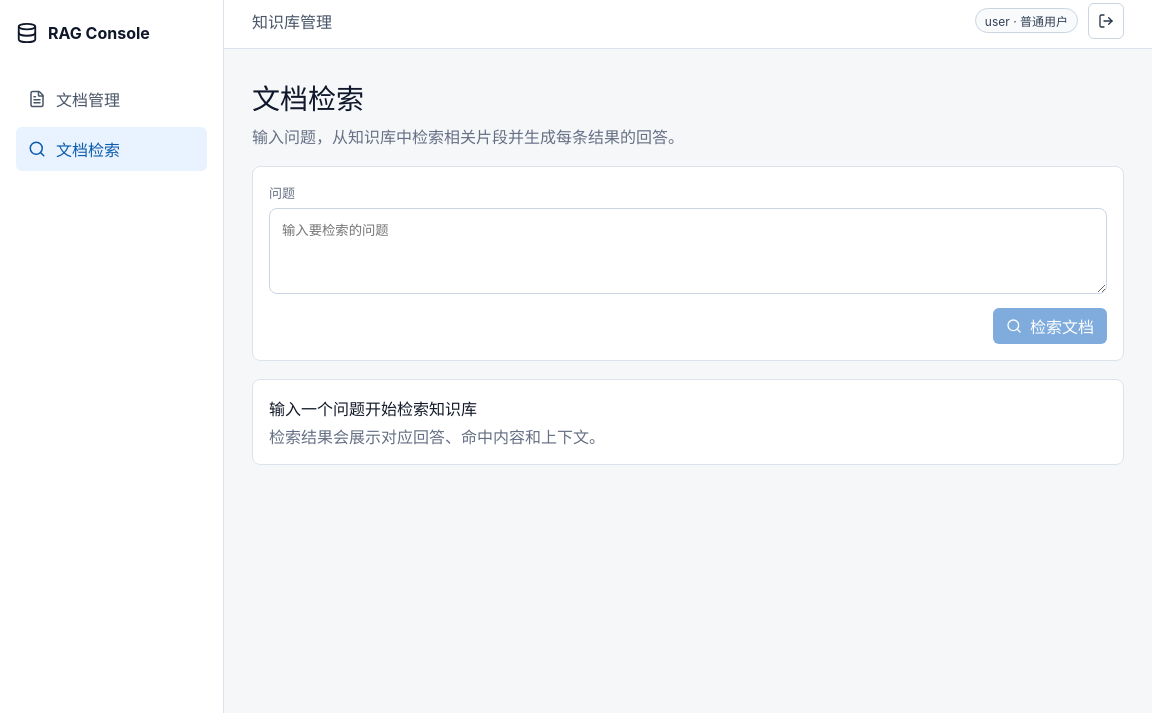
document management app › lets a normal user search documents and submit query feedback
Check: the heading "文档检索" is shown, box [252,82,364,116]
Check: the link "文档管理" is shown, box [28,90,120,110]
Type "差旅报销需要什么材料" into the text box labelled "问题" at (688, 251), box [269,208,1107,294]
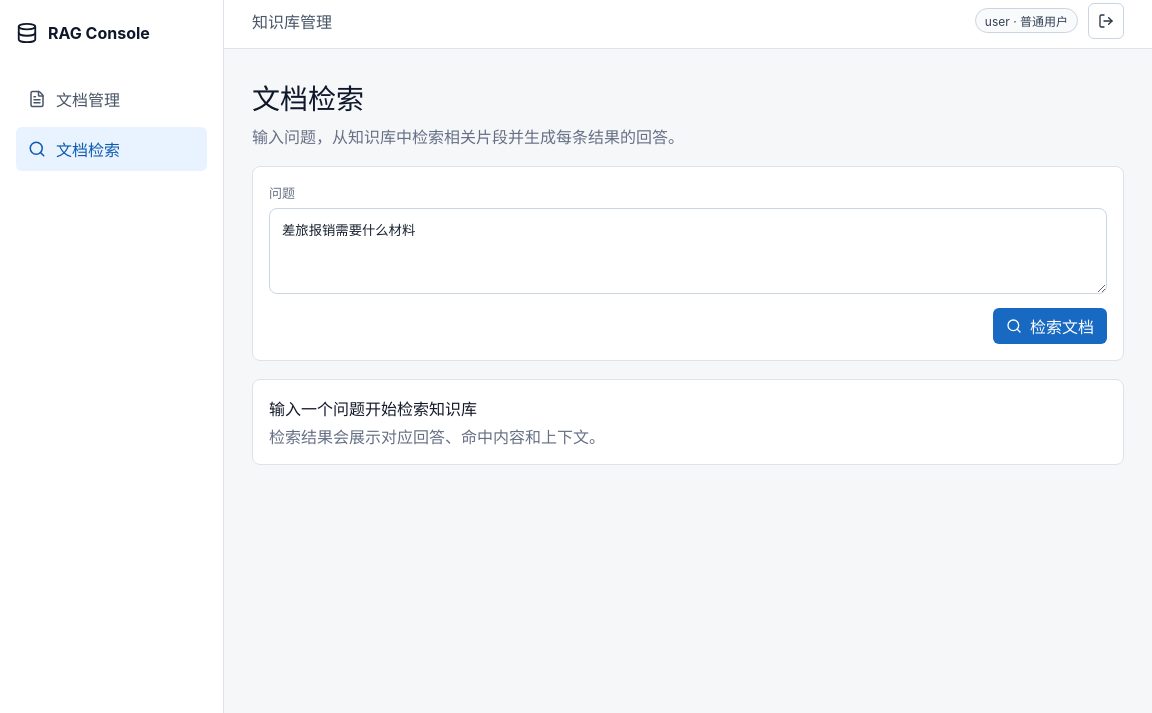
Click the button "检索文档" at (1050, 326), box [993,308,1107,344]
(page scrolled)
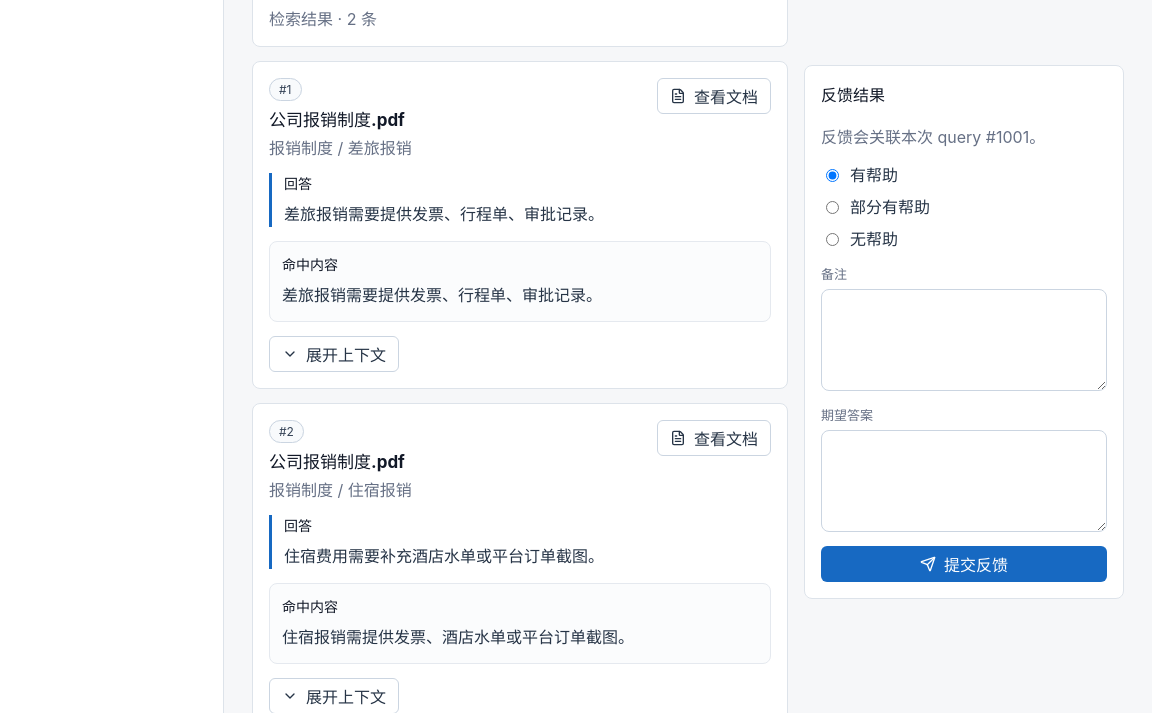
Check: the 1st heading "公司报销制度.pdf" is shown, box [269,106,412,131]
Check: the 1st text "差旅报销需要提供发票、行程单、审批记录。" is shown, box [284,204,604,224]
Check: the text "住宿费用需要补充酒店水单或平台订单截图。" is shown, box [284,546,604,566]
Click the button "展开上下文" below "报销制度 / 差旅报销" at (334, 354), box [269,336,399,372]
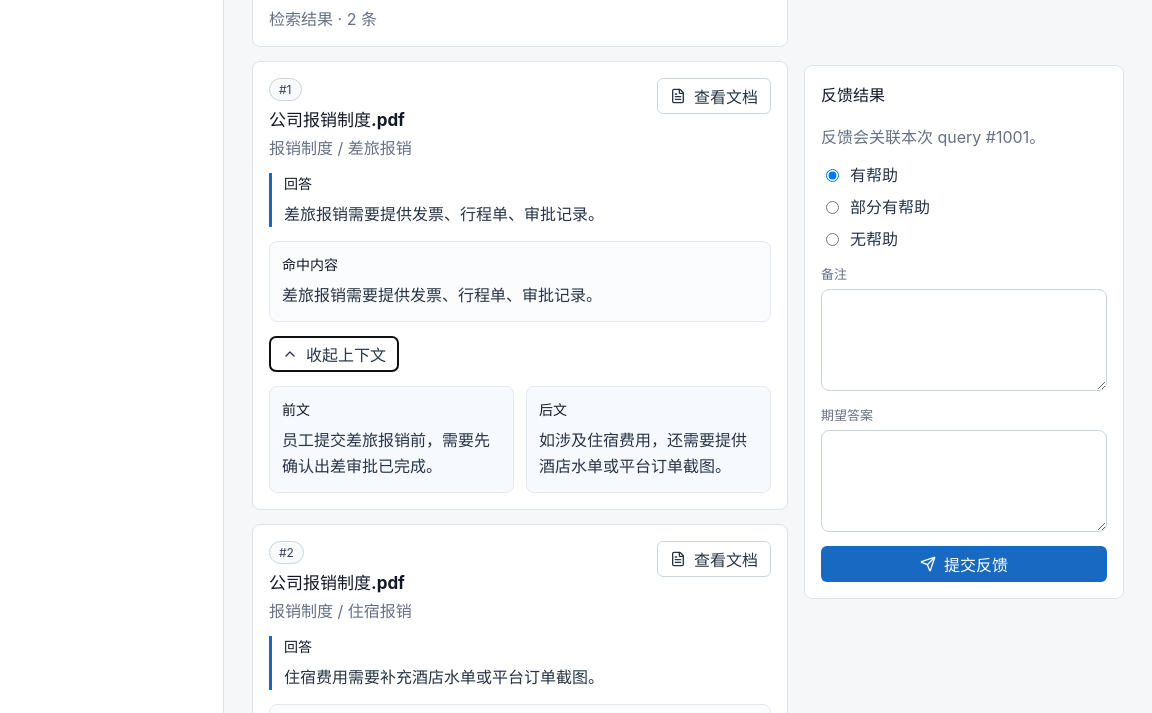
Check: the text "员工提交差旅报销前，需要先确认出差审批已完成。" is shown, box [282,427,501,480]
Check: the text "如涉及住宿费用，还需要提供酒店水单或平台订单截图。" is shown, box [539,427,758,480]
Click the radio button labelled "部分有帮助" at (832, 208), box [826,201,839,214]
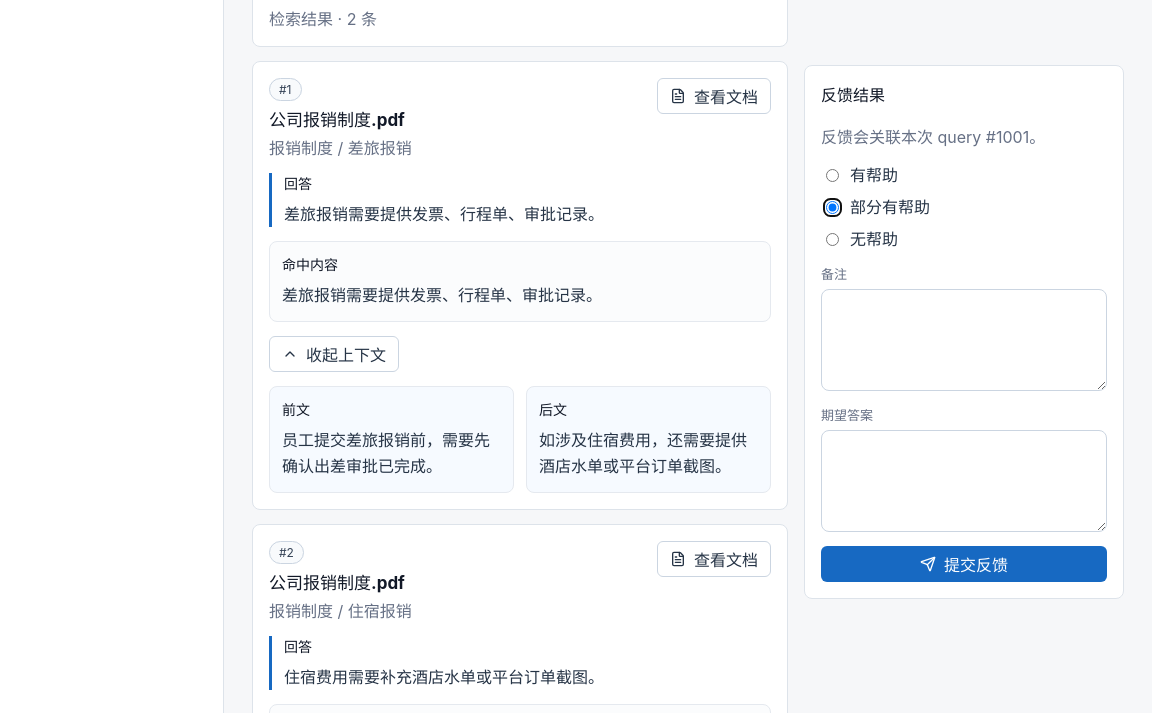
Type "第二条补充了住宿材料" into the text box labelled "备注" at (964, 340), box [821,289,1107,391]
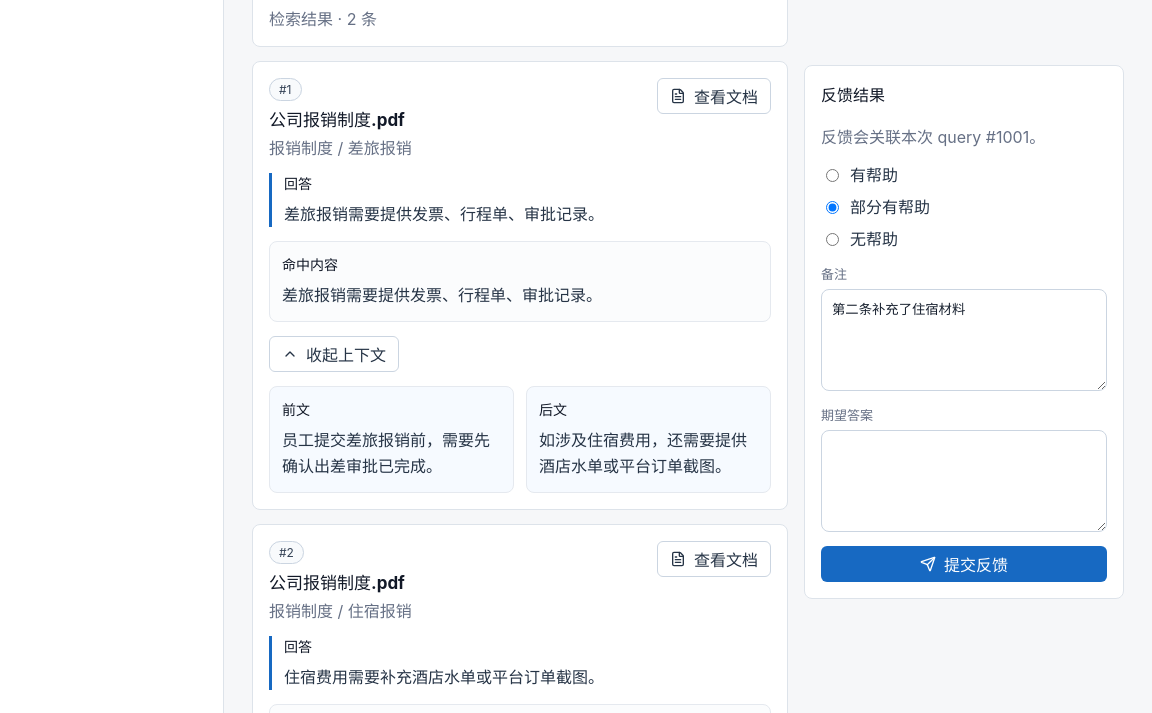
Click the button "提交反馈" at (964, 564), box [821,546,1107,582]
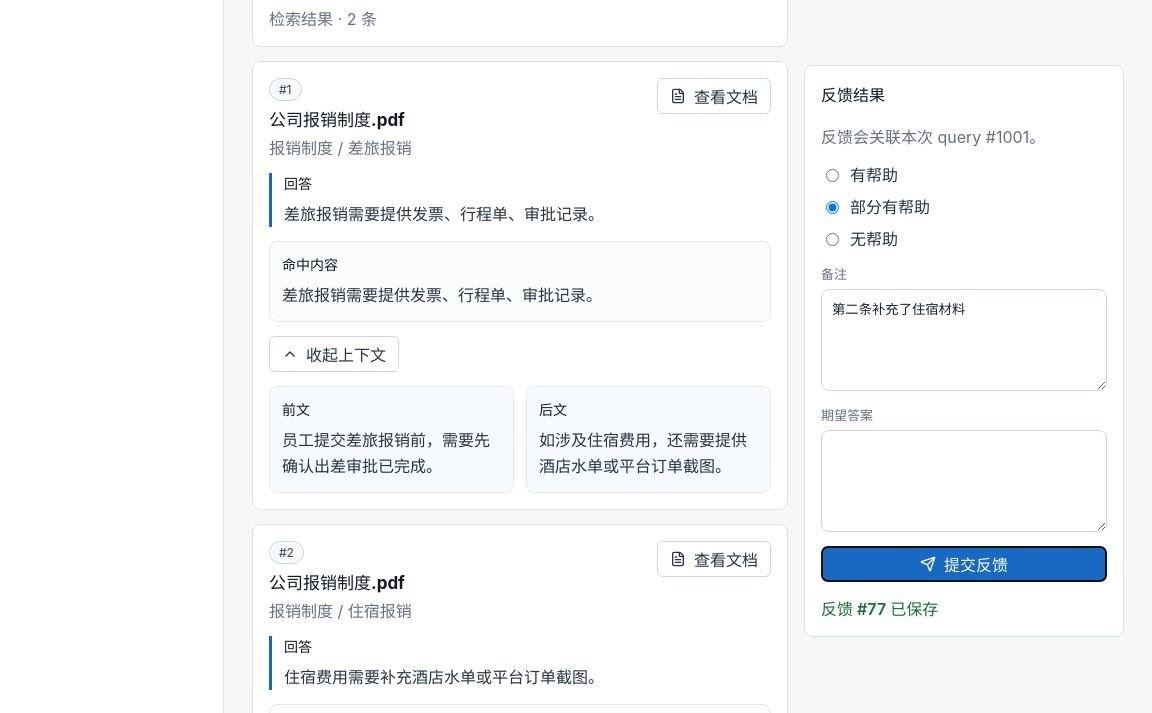
Check: the text "反馈 #77 已保存" is shown, box [821,599,938,619]
